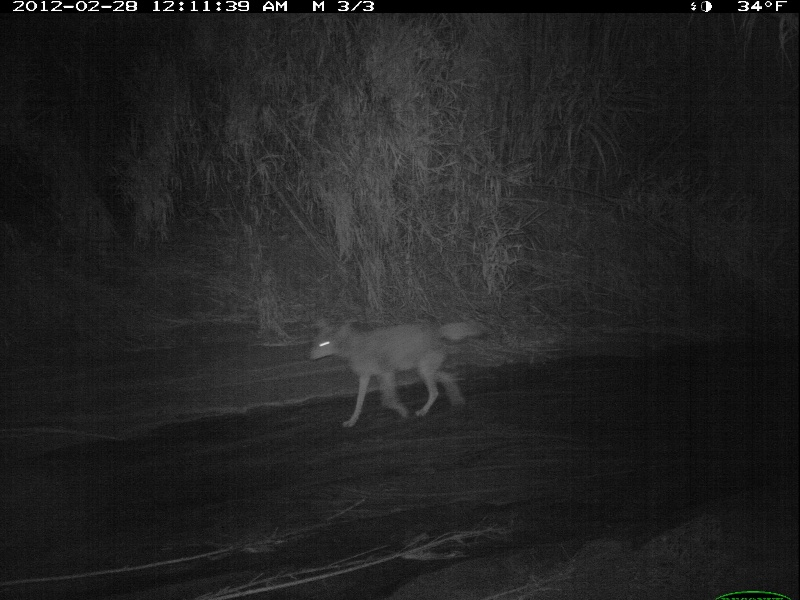coyote: (307, 313, 487, 427)
